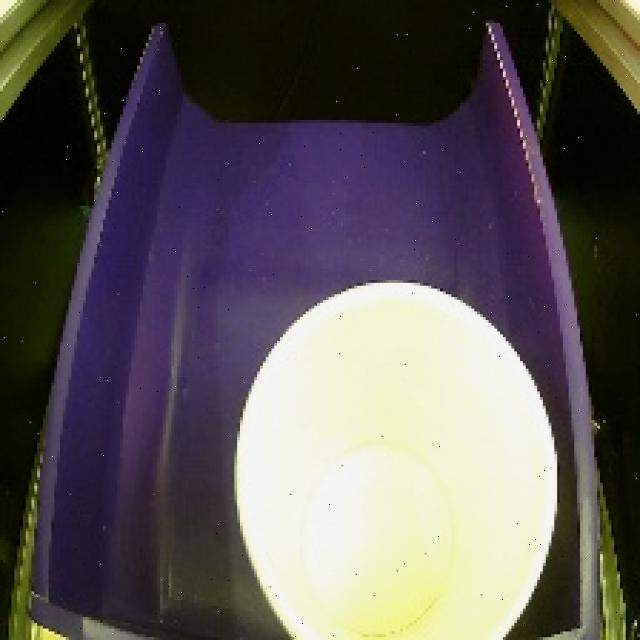cups: (226, 268, 581, 640)
